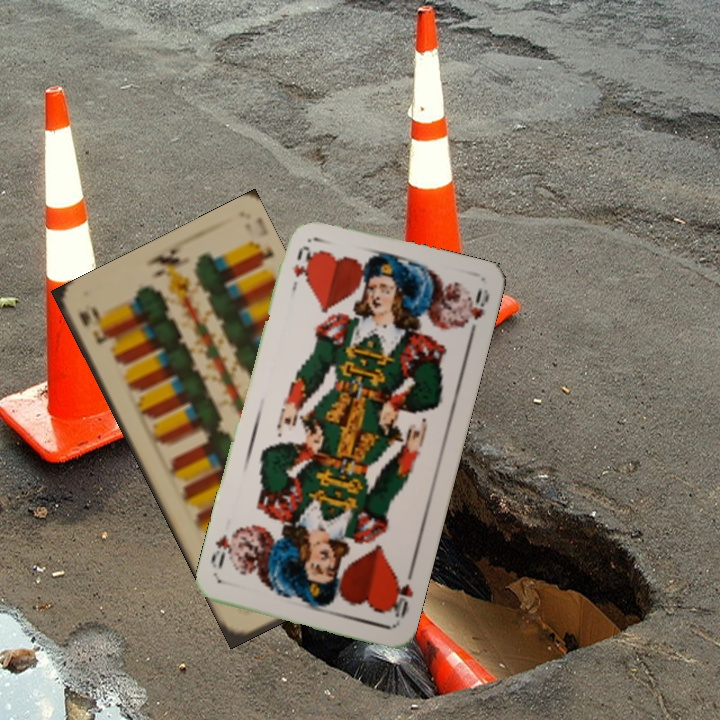E10: (74, 302, 113, 348)
HO: (385, 565, 416, 622), (287, 241, 314, 297)
